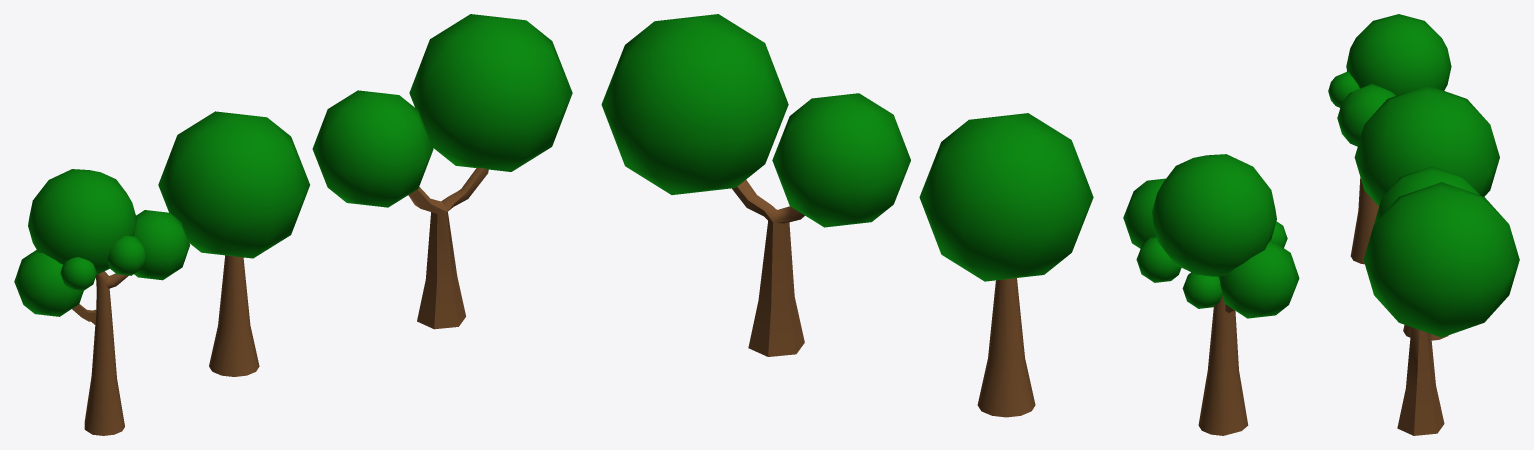
Rendered from arvores.FBX.
3 views of the same model, side by side, from view 1: azimuth 30°, elevation 25°; view 2: azimuth 150°, elevation 25°; view 3: azimuth 270°, elevation 25° (orthographic). The views are drawn at different scales.
Parts seen in each view (by area): view 1: arvore 03, arvore 02, arvore; view 2: arvore 03, arvore 02, arvore; view 3: arvore 03, arvore 02, arvore.
Boxes of the visible parts, x1=… form: arvore 03: x1=312, y1=14, x2=572, y2=329; arvore 02: x1=158, y1=111, x2=309, y2=376; arvore: x1=14, y1=169, x2=189, y2=435; arvore 03: x1=601, y1=14, x2=910, y2=356; arvore 02: x1=919, y1=113, x2=1093, y2=417; arvore: x1=1123, y1=154, x2=1299, y2=435; arvore 03: x1=1363, y1=166, x2=1519, y2=435; arvore 02: x1=1354, y1=85, x2=1499, y2=340; arvore: x1=1328, y1=14, x2=1451, y2=264.
Bounding box in the file's own units: 240 × 73.34 × 112.
